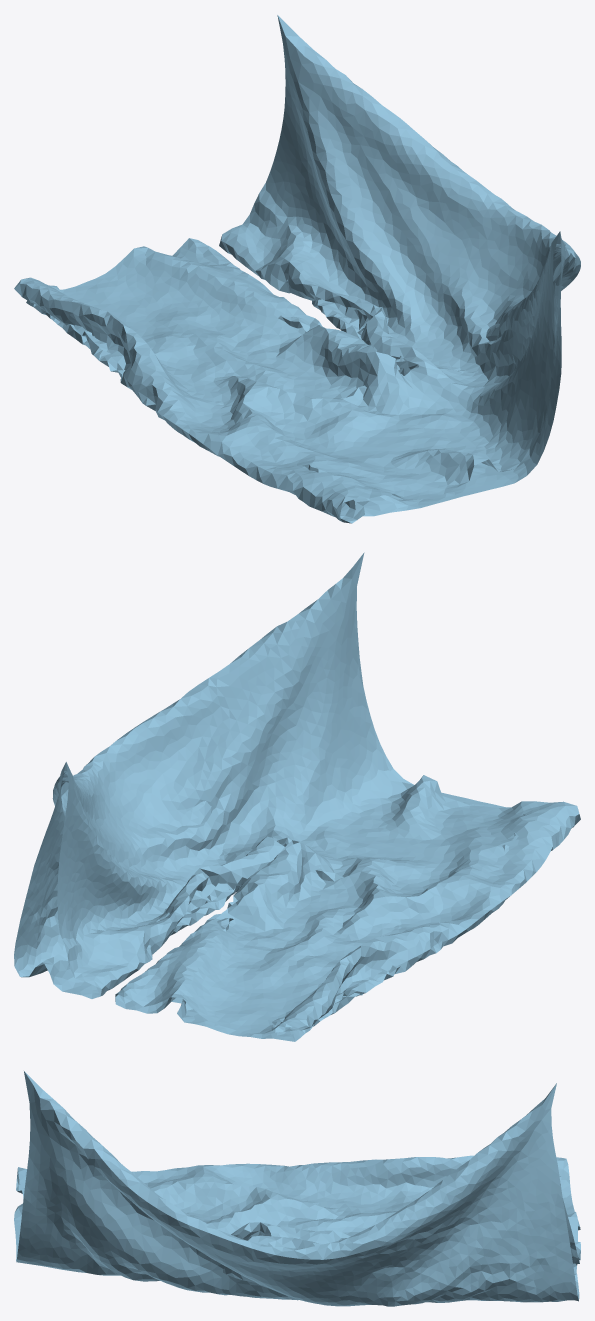
File: frame_09.glb
3 renders of one model, top to bottom at view 1: azimuth 30°, elevation 25°; view 2: azimuth 150°, elevation 25°; view 3: azimuth 270°, elevation 25°, orthographic. The views are drawn at different scales.
Visible parts, largest first — view 1: frame_09.obj; view 2: frame_09.obj; view 3: frame_09.obj.
Part boxes in pixels (left/top/right/bottom): frame_09.obj: left=14, top=15, right=580, bottom=523; frame_09.obj: left=14, top=552, right=580, bottom=1041; frame_09.obj: left=14, top=1071, right=580, bottom=1306.
Bounding box in the file's own units: 1.13 × 0.6785 × 1.6.
